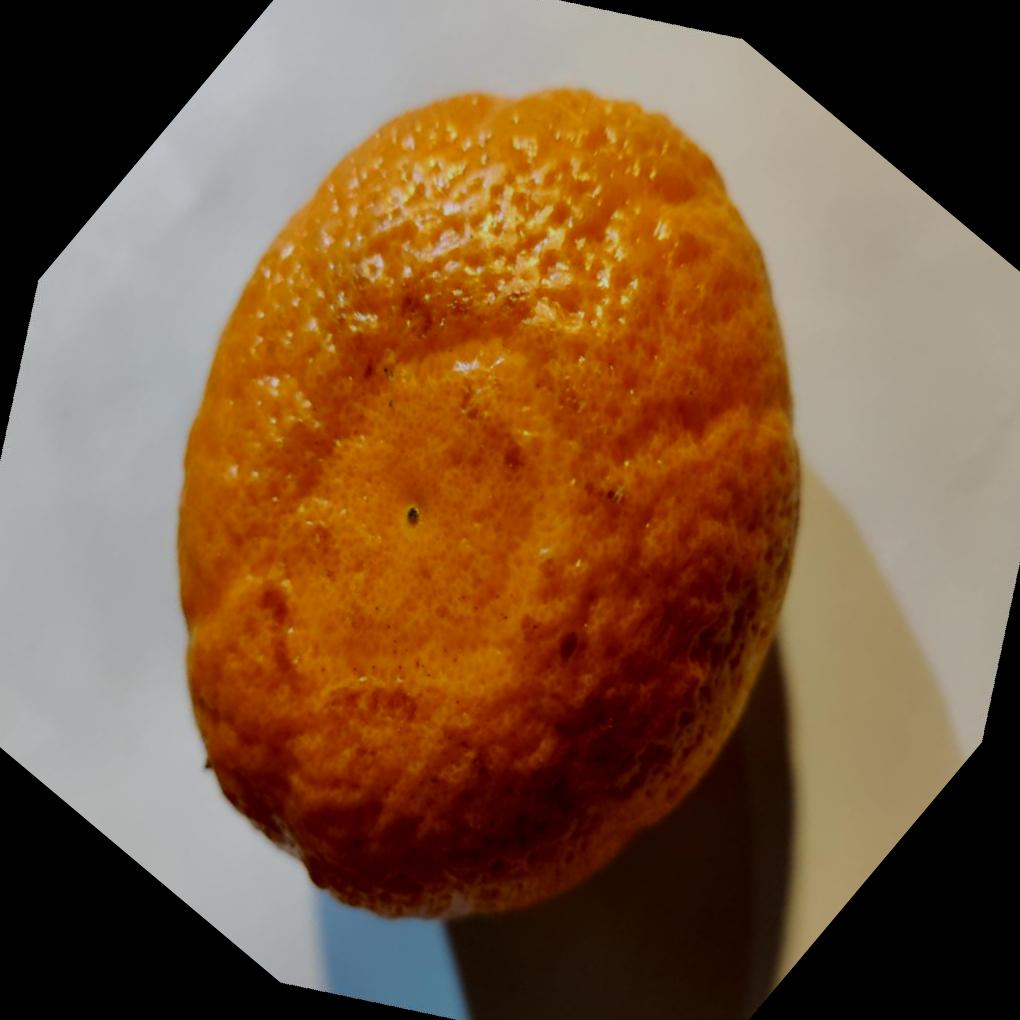FreshGuava: (170, 85, 802, 926)
